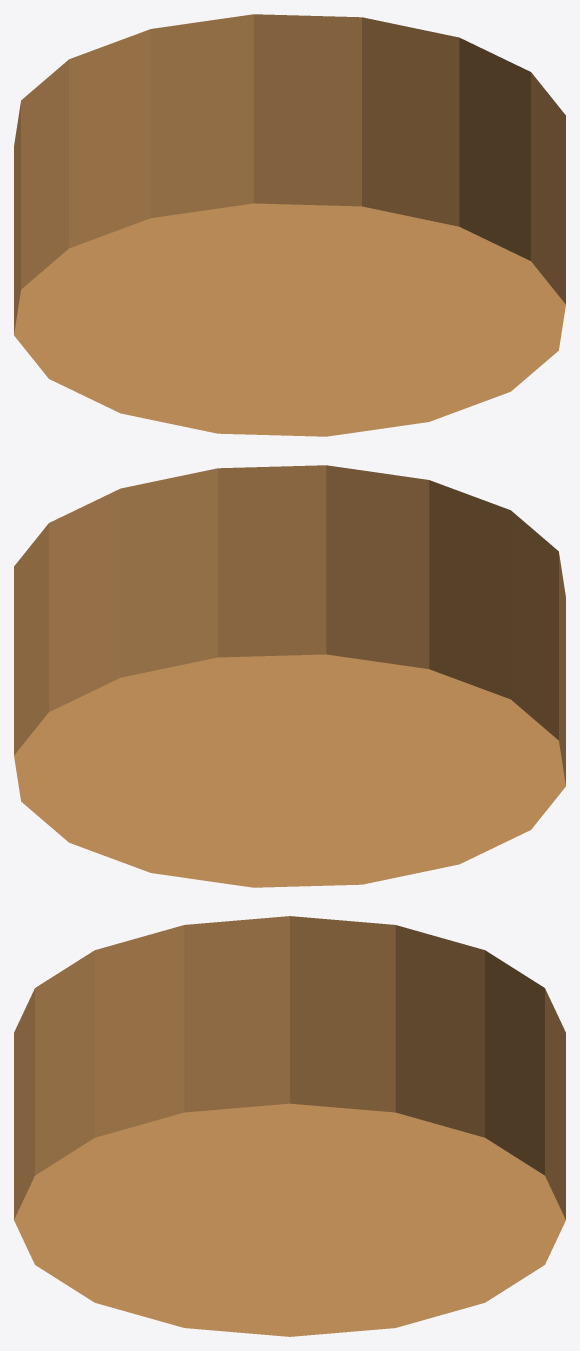
Rendered from burger.glb.
The picture shows the model from 3 angles, top to bottom: view 1: azimuth 30°, elevation 25°; view 2: azimuth 150°, elevation 25°; view 3: azimuth 270°, elevation 25°; orthographic projection.
Visible parts, largest first — view 1: Burger; view 2: Burger; view 3: Burger.
Boxes of the visible parts, x1,y1,x2,y2 form: Burger: (14,14,565,436); Burger: (14,465,565,887); Burger: (14,916,565,1336).
Size of the model in its own units: 1.6 by 0.6 by 1.6.
